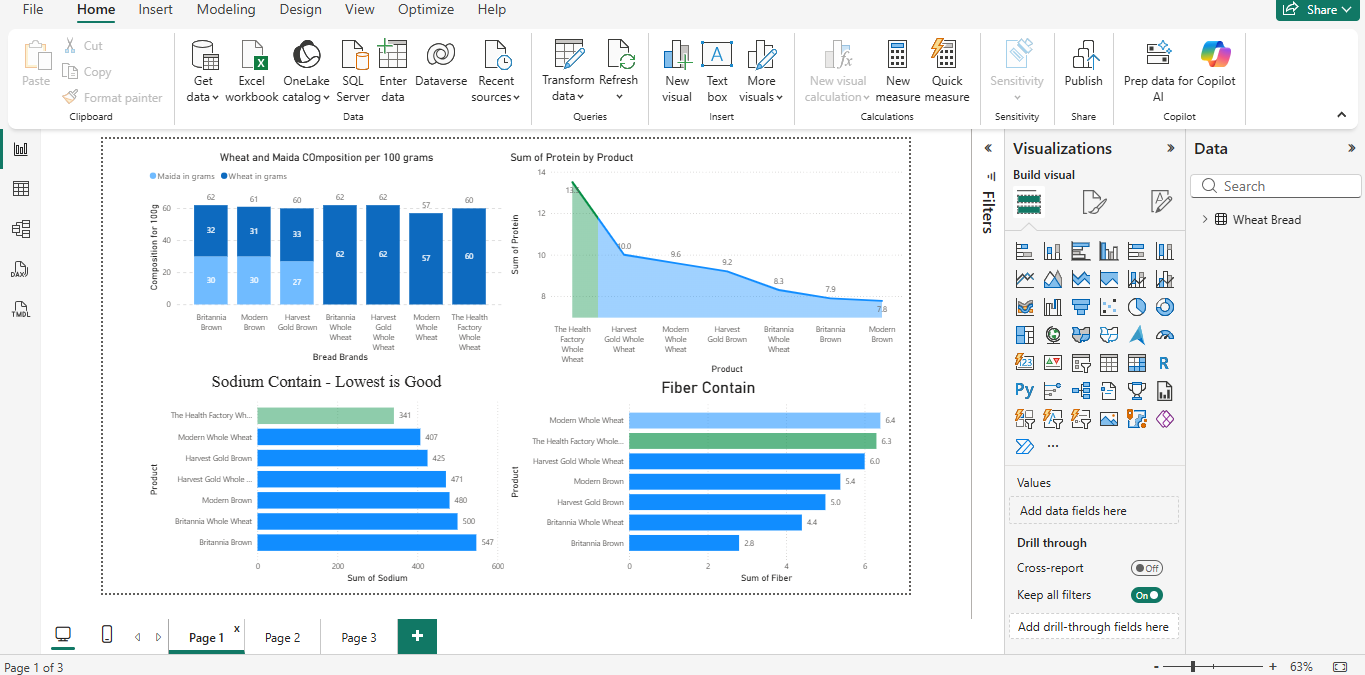

Layout of this report page (visuals, bound fields, positions):
{"tool":"powerbi","page":{"name":"Page 1","canvas":[1280,720],"ordinal":0},"visuals":[{"type":"columnChart","title":"Wheat and Maida COmposition per 100 grams","fields":{"Category":["Wheat Bread.Product"],"Y":["Sum(Wheat Bread.Maida)","Sum(Wheat Bread.Wheat)"]},"box":[67.6,19.6,573.1,339.9],"z":0},{"type":"areaChart","fields":{"Category":["Wheat Bread.Product"],"Y":["Sum(Wheat Bread.Protein)"]},"box":[640.7,19.6,638.9,359.5],"z":1000},{"type":"clusteredBarChart","title":"Sodium Contain - Lowest is Good","fields":{"Category":["Wheat Bread.Product"],"Y":["Sum(Wheat Bread.Sodium)"]},"box":[68,370,573,340],"z":2000},{"type":"clusteredBarChart","title":"Fiber Contain","fields":{"Y":["Sum(Wheat Bread.Fiber)"],"Category":["Wheat Bread.Product"]},"box":[641,380,639,330],"z":3000}]}

Visuals, with their boxes on the page's 1280x720 design canvas (x1, y1, x2, y2). These are canvas units, not pixel positions in the 1365x675 screenshot, which may show the page scaled, cropped or inside an application window:
"Wheat and Maida COmposition per 100 grams" columnChart: <box>68,20,641,360</box>
areaChart - Wheat Bread.Product x Sum(Wheat Bread.Protein): <box>641,20,1280,379</box>
"Sodium Contain - Lowest is Good" clusteredBarChart: <box>68,370,641,710</box>
"Fiber Contain" clusteredBarChart: <box>641,380,1280,710</box>
